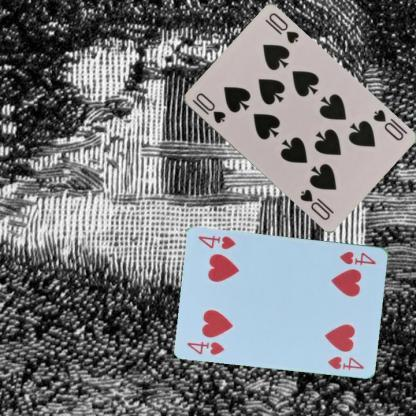10s: (189, 90, 227, 126), (370, 106, 404, 142)
4h: (185, 338, 226, 356), (337, 248, 377, 266)
